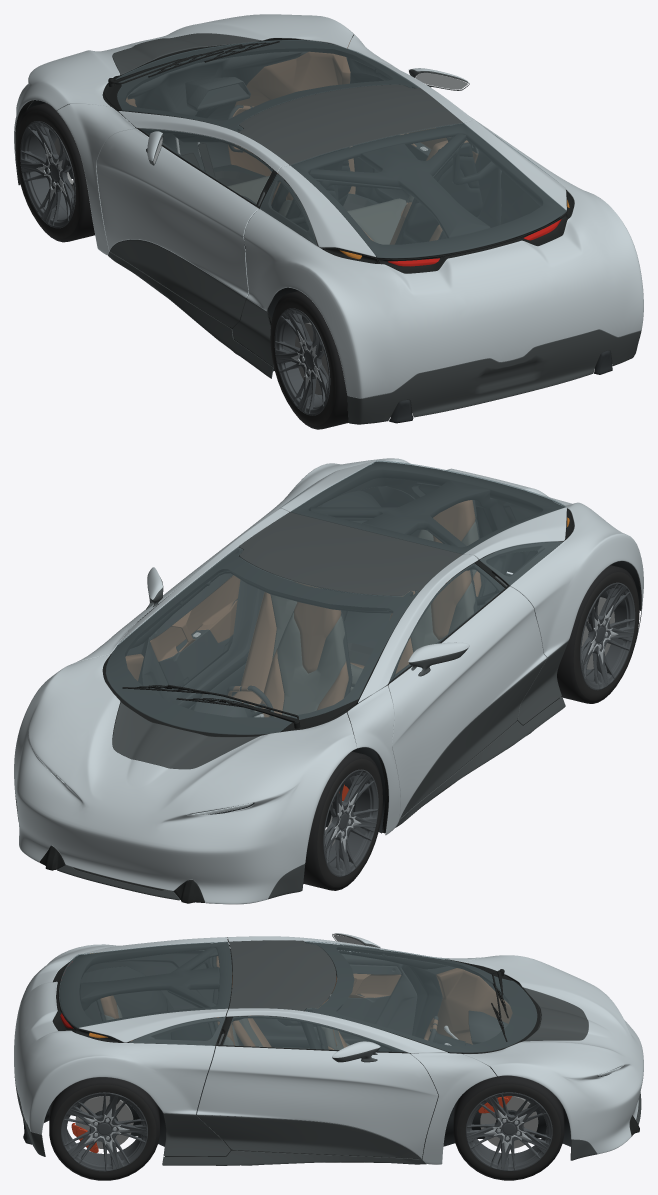
Rendered from aurelia-cx.glb.
3 views of the same model, one above another, from view 1: azimuth 30°, elevation 25°; view 2: azimuth 150°, elevation 25°; view 3: azimuth 270°, elevation 25° (orthographic). The views are drawn at different scales.
Visible parts, largest first — view 1: Shell, RL, FL; view 2: Shell, RL, FL; view 3: Shell, FR, RR.
Boxes of the visible parts, x1,y1,x2,y2 form: Shell: (14, 14, 643, 424); RL: (270, 291, 348, 429); FL: (15, 103, 94, 242); Shell: (14, 458, 643, 904); RL: (557, 565, 639, 703); FL: (303, 751, 382, 890); Shell: (14, 933, 643, 1165); FR: (453, 1074, 564, 1180); RR: (49, 1077, 159, 1180).
Size of the model in its own units: 2.15 by 1.23 by 4.65.
